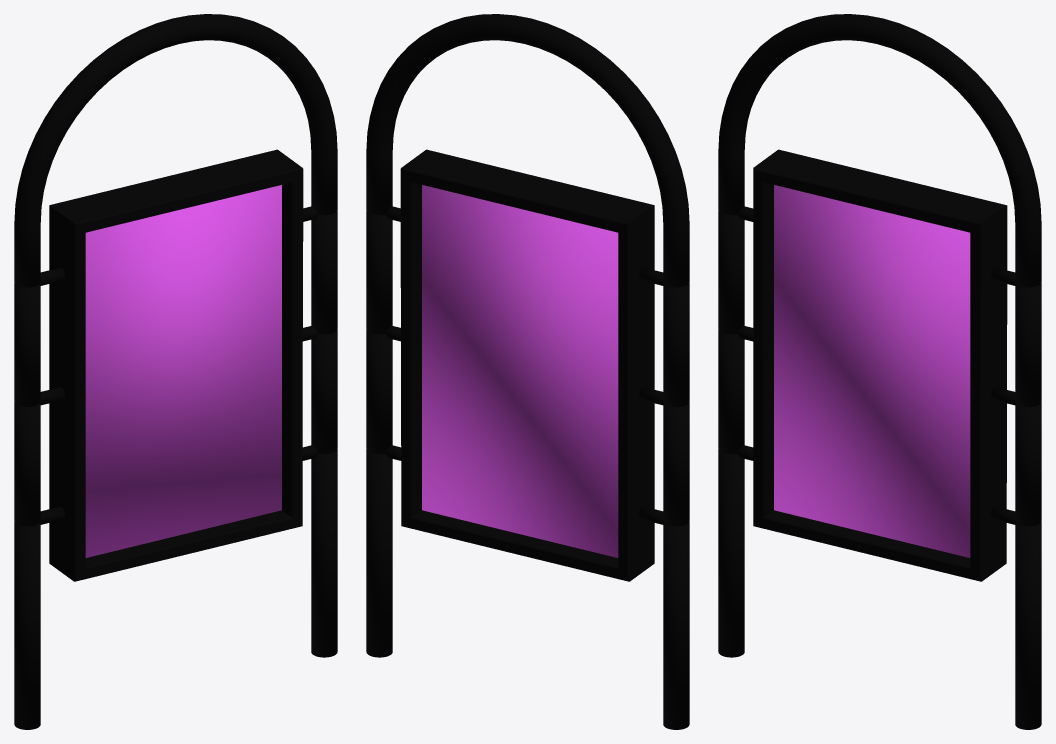
The model's file is BOARD.fbx.
3 views of the same model, side by side, from view 1: azimuth 30°, elevation 25°; view 2: azimuth 150°, elevation 25°; view 3: azimuth 330°, elevation 25° (orthographic).
Visible parts, largest first — view 1: Box02, Rectangle01, Rectangle02; view 2: Box02, Rectangle01, Rectangle02; view 3: Box02, Rectangle01, Rectangle02.
Part boxes in pixels (bbox=[...]): Box02: bbox=[85, 185, 281, 557]; Rectangle01: bbox=[14, 14, 337, 729]; Rectangle02: bbox=[49, 149, 303, 581]; Box02: bbox=[422, 185, 618, 557]; Rectangle01: bbox=[366, 14, 689, 729]; Rectangle02: bbox=[400, 149, 654, 581]; Box02: bbox=[774, 185, 970, 557]; Rectangle01: bbox=[718, 14, 1041, 729]; Rectangle02: bbox=[753, 149, 1007, 581].
Bounding box in the file's own units: 280 × 560 × 40.
